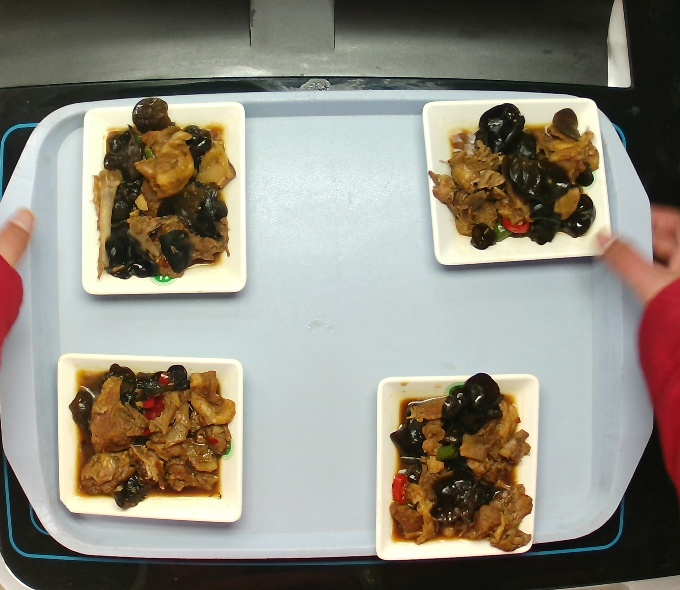wcq-MuErYaRou: (423, 98, 612, 254), (90, 102, 238, 283), (393, 375, 532, 546), (67, 372, 234, 510)
